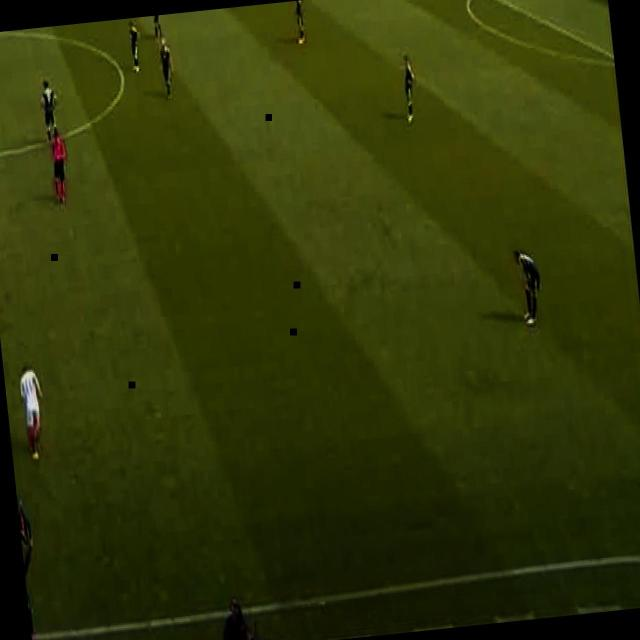player-white: (19, 519, 45, 640), (17, 363, 47, 461), (513, 248, 545, 328), (48, 128, 72, 208), (39, 78, 61, 148), (400, 55, 418, 126), (159, 38, 175, 100), (126, 19, 142, 76), (294, 0, 310, 47), (152, 15, 164, 43)
